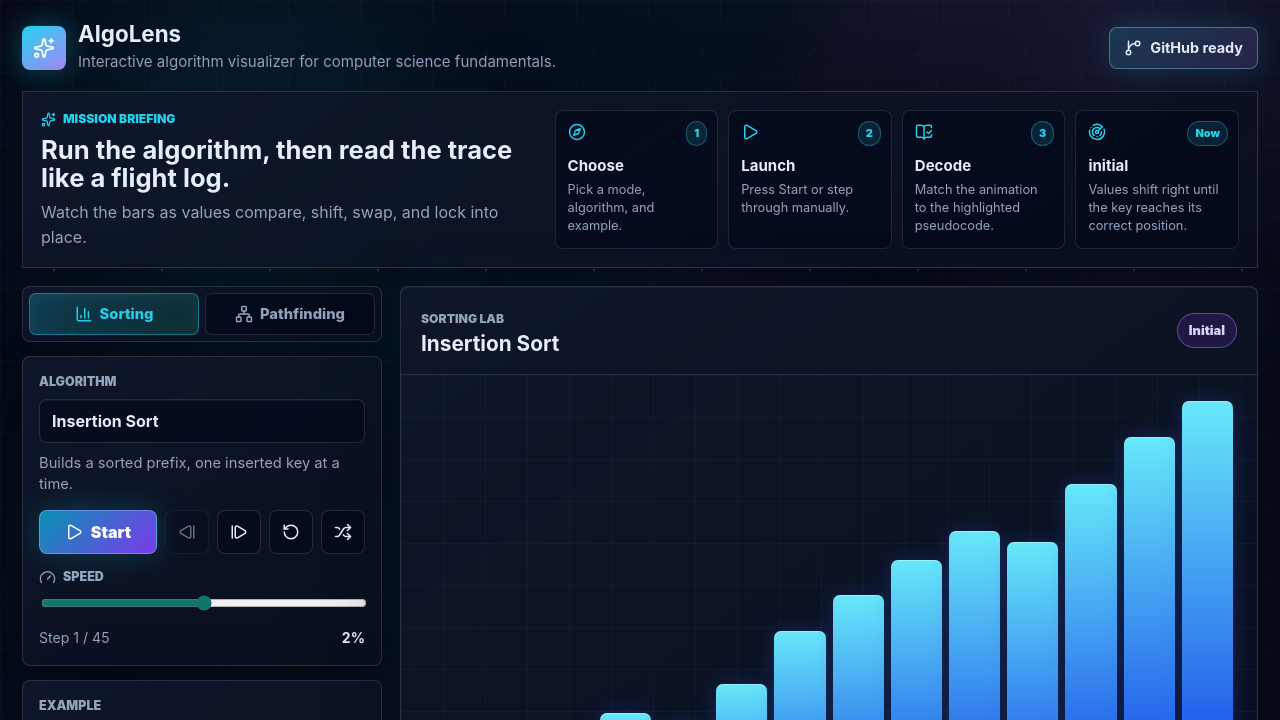
Test: AlgoLens UI flows › keeps autoplay moving after Start is pressed
The image size is (1280, 720).
Click the button "Start". click: (98, 532)
box: x1=39 y1=510 x2=157 y2=554
Wait 800 ms
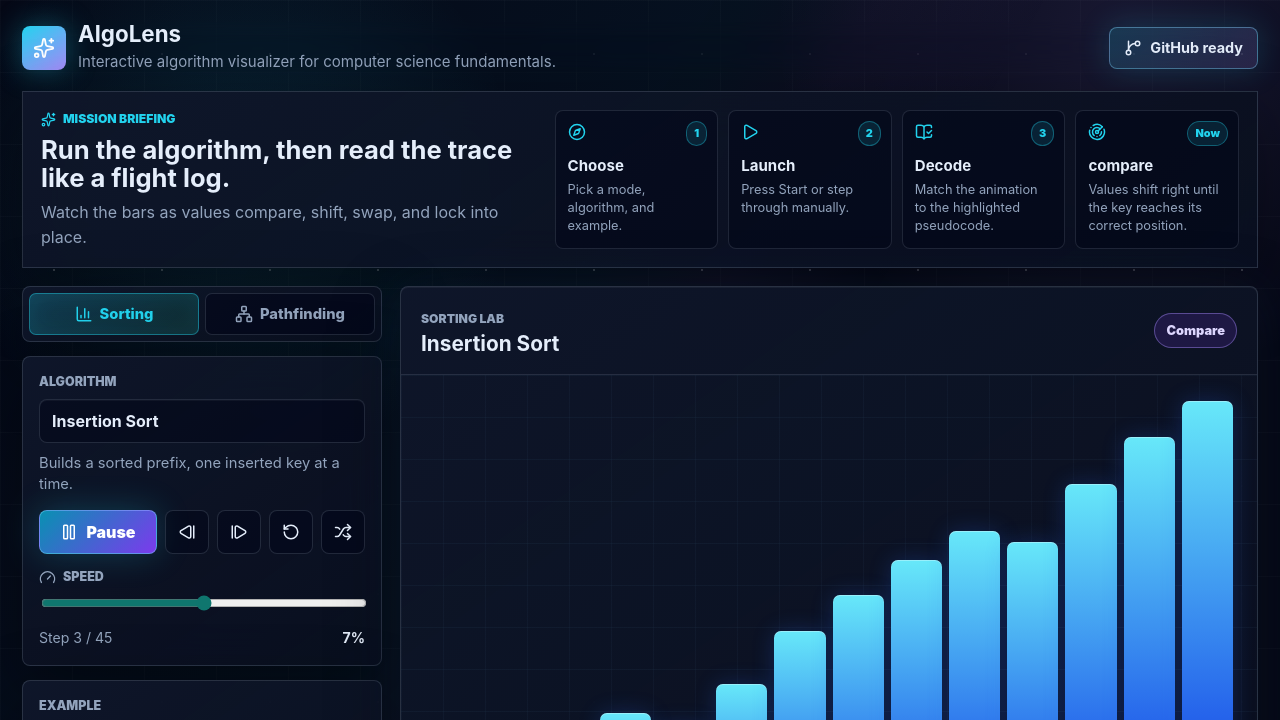
Result: the text "Step 1 / 45" is gone
Result: the text "Step 3 / 45" is shown at x1=39 y1=627 x2=112 y2=648
